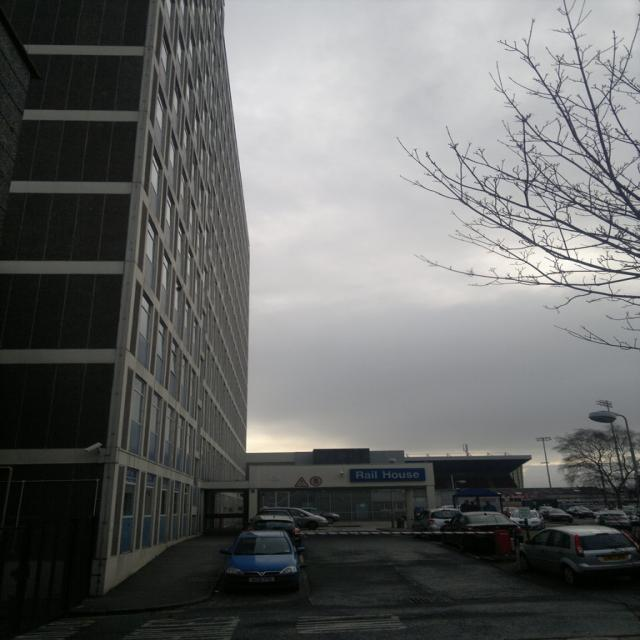car: (218, 516, 314, 593)
